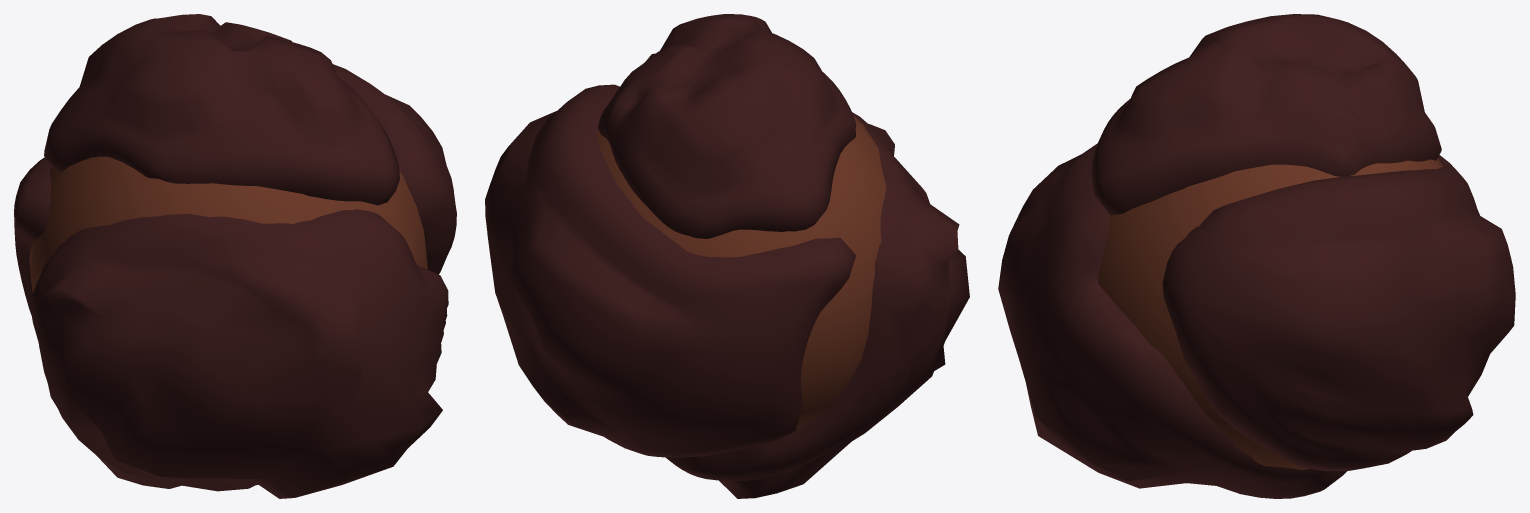
The model's file is Bala Meteorito.fbx.
3 views of the same model, side by side, from view 1: azimuth 30°, elevation 25°; view 2: azimuth 150°, elevation 25°; view 3: azimuth 270°, elevation 25° (orthographic). The views are drawn at different scales.
Visible parts, largest first — view 1: Piedra1, Piedra_3, Esfera, Piedra_2; view 2: Piedra_2, Piedra_3, Piedra1, Esfera; view 3: Piedra_2, Piedra_3, Piedra1, Esfera.
Part boxes in pixels (x1,y1,x2,y2): Piedra1: (29, 209, 448, 498); Piedra_3: (44, 14, 399, 205); Esfera: (29, 156, 427, 292); Piedra_2: (14, 64, 456, 314); Piedra_2: (485, 84, 855, 457); Piedra_3: (598, 14, 856, 238); Piedra1: (665, 112, 969, 498); Esfera: (597, 115, 886, 427); Piedra_2: (1162, 155, 1515, 471); Piedra_3: (1091, 14, 1441, 215); Piedra1: (998, 143, 1346, 498); Esfera: (1098, 158, 1442, 469).
Bounding box in the file's own units: 3.38 × 3.38 × 3.4.
